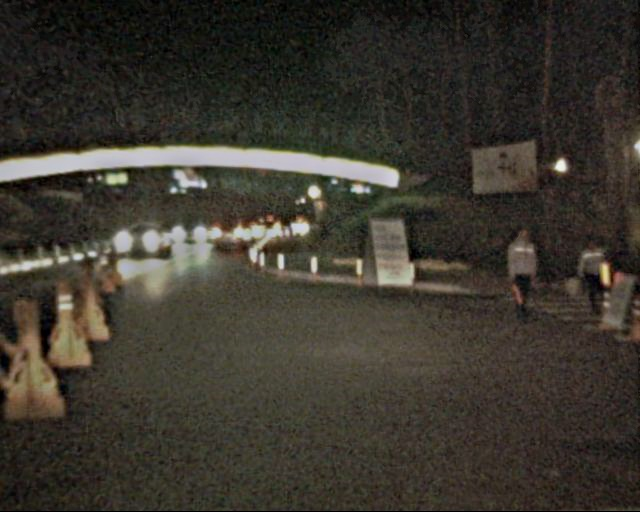person: (499, 226, 543, 324), (574, 238, 608, 309)
